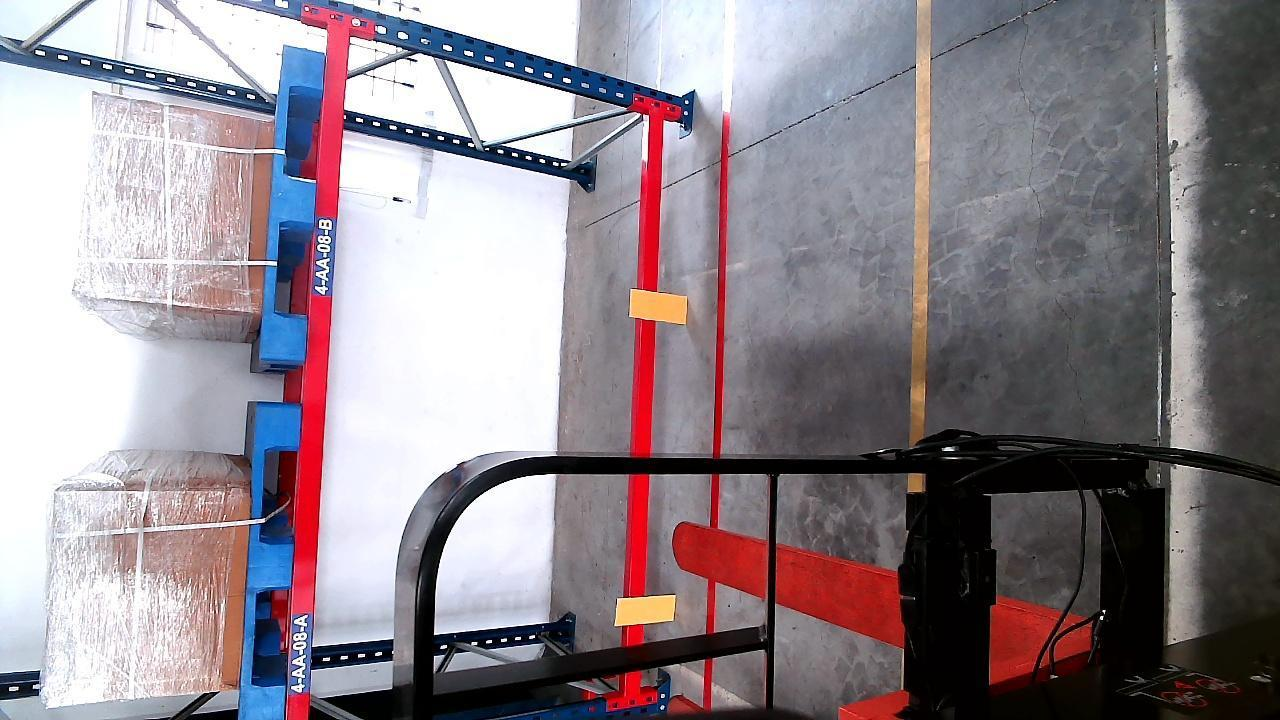h_rack: (283, 19, 351, 720), (621, 119, 668, 693)
orange_strip: (616, 594, 677, 626), (633, 290, 685, 322)
red_line: (700, 28, 737, 706)
small_pallet: (240, 401, 304, 719), (262, 48, 322, 363)
yellow_line: (909, 0, 935, 439)
